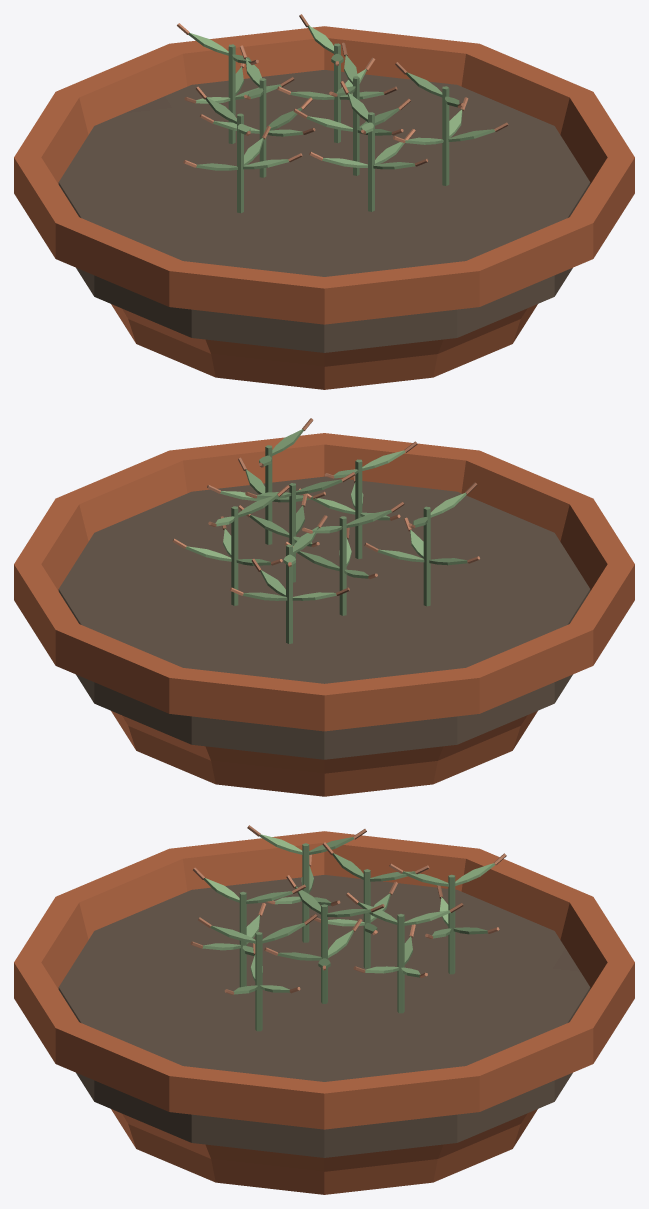
The model's file is moss-juniperinum.glb.
3 views of the same model, one above another, from view 1: azimuth 30°, elevation 25°; view 2: azimuth 150°, elevation 25°; view 3: azimuth 270°, elevation 25° (orthographic).
Visible parts, largest first — view 1: moss-juniperinum/review-rooted-soil, moss-juniperinum/review-terra-vessel, moss-juniperinum/moss-stem-056, moss-juniperinum/moss-stem-012, moss-juniperinum/moss-stem-023, moss-juniperinum/moss-stem-067, moss-juniperinum/moss-stem-045, moss-juniperinum/moss-stem-034, moss-juniperinum/moss-stem-001; view 2: moss-juniperinum/review-rooted-soil, moss-juniperinum/review-terra-vessel, moss-juniperinum/moss-stem-045, moss-juniperinum/moss-stem-012, moss-juniperinum/moss-stem-034, moss-juniperinum/moss-stem-023, moss-juniperinum/moss-stem-067, moss-juniperinum/moss-stem-056; view 3: moss-juniperinum/review-rooted-soil, moss-juniperinum/review-terra-vessel, moss-juniperinum/moss-stem-056, moss-juniperinum/moss-stem-034, moss-juniperinum/moss-stem-067, moss-juniperinum/moss-stem-012, moss-juniperinum/moss-stem-023, moss-juniperinum/moss-stem-045, moss-juniperinum/moss-stem-001.
Boxes of the visible parts, bbox=[...] form: moss-juniperinum/review-rooted-soil: bbox=[58, 70, 590, 352]; moss-juniperinum/review-terra-vessel: bbox=[14, 26, 634, 389]; moss-juniperinum/moss-stem-056: bbox=[442, 86, 449, 185]; moss-juniperinum/moss-stem-012: bbox=[259, 78, 266, 177]; moss-juniperinum/moss-stem-023: bbox=[368, 112, 374, 211]; moss-juniperinum/moss-stem-067: bbox=[228, 44, 235, 143]; moss-juniperinum/moss-stem-045: bbox=[237, 113, 243, 213]; moss-juniperinum/moss-stem-034: bbox=[334, 43, 340, 142]; moss-juniperinum/moss-stem-001: bbox=[353, 76, 359, 175]; moss-juniperinum/review-rooted-soil: bbox=[58, 476, 590, 759]; moss-juniperinum/review-terra-vessel: bbox=[14, 433, 634, 796]; moss-juniperinum/moss-stem-045: bbox=[423, 506, 430, 606]; moss-juniperinum/moss-stem-012: bbox=[339, 516, 346, 615]; moss-juniperinum/moss-stem-034: bbox=[231, 506, 238, 605]; moss-juniperinum/moss-stem-023: bbox=[355, 459, 362, 559]; moss-juniperinum/moss-stem-067: bbox=[286, 544, 292, 643]; moss-juniperinum/moss-stem-056: bbox=[265, 445, 272, 544]; moss-juniperinum/review-rooted-soil: bbox=[58, 875, 590, 1157]; moss-juniperinum/review-terra-vessel: bbox=[14, 831, 634, 1194]; moss-juniperinum/moss-stem-056: bbox=[255, 932, 262, 1031]; moss-juniperinum/moss-stem-034: bbox=[397, 914, 404, 1013]; moss-juniperinum/moss-stem-067: bbox=[448, 874, 455, 974]; moss-juniperinum/moss-stem-012: bbox=[363, 869, 370, 968]; moss-juniperinum/moss-stem-023: bbox=[239, 891, 246, 987]; moss-juniperinum/moss-stem-045: bbox=[302, 843, 309, 942]; moss-juniperinum/moss-stem-001: bbox=[321, 904, 327, 1003].
Bounding box in the file's own units: 0.25 × 0.0989 × 0.25.
4 materials, 4 textured.
